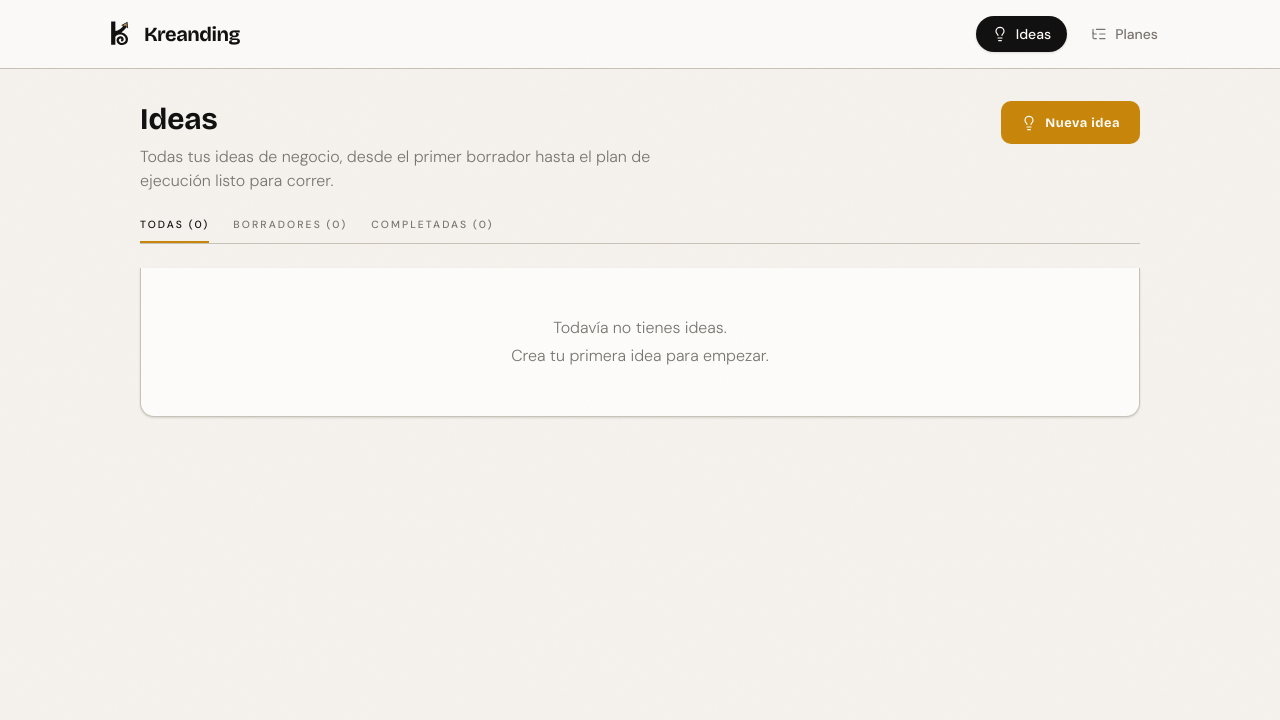
it: Creación de idea › bloquea el envío hasta alcanzar el mínimo de caracteres
Expected: the text "Todavía no tienes ideas." is shown, x1=553 y1=317 x2=727 y2=338
Click the button "Nueva idea" at coordinates (1071, 123), box x1=1001 y1=101 x2=1140 y2=144
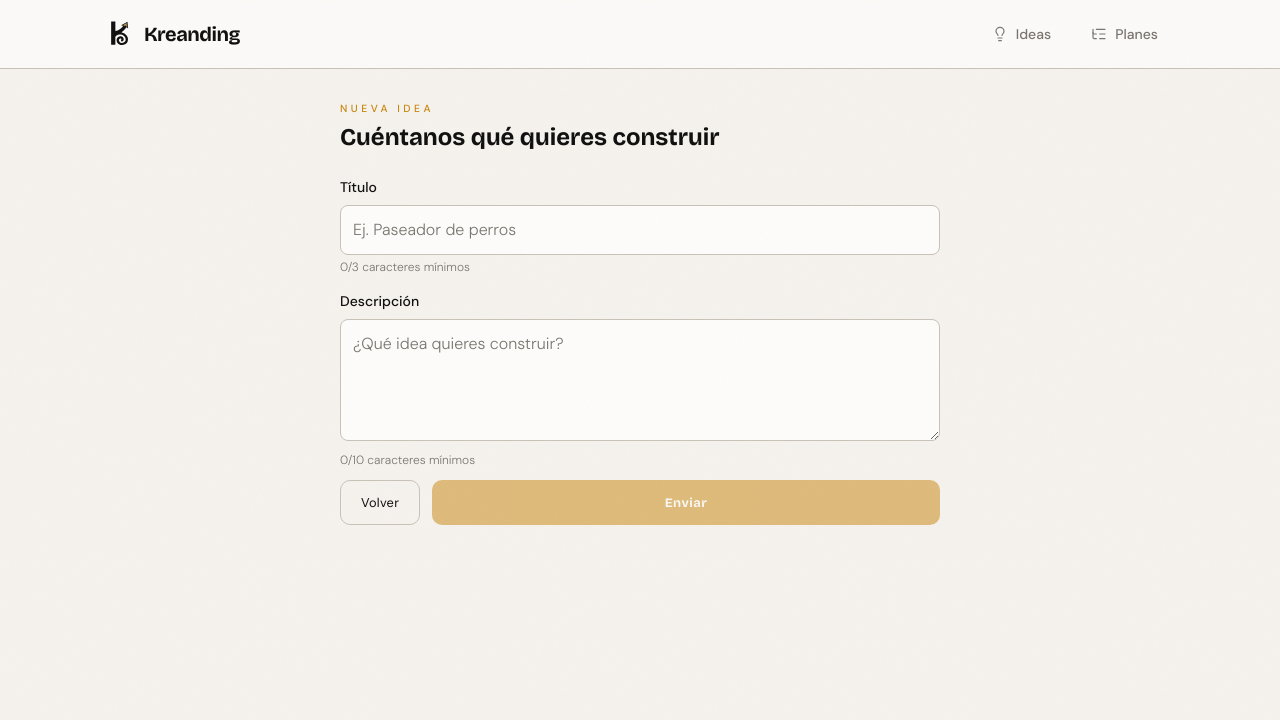
Expected: the field labelled "Título" is shown
Expected: the button "Enviar" is disabled, x1=432 y1=480 x2=940 y2=525
Type "Paseador de perros" into the field labelled "Título" at coordinates (640, 230), box x1=340 y1=205 x2=940 y2=255
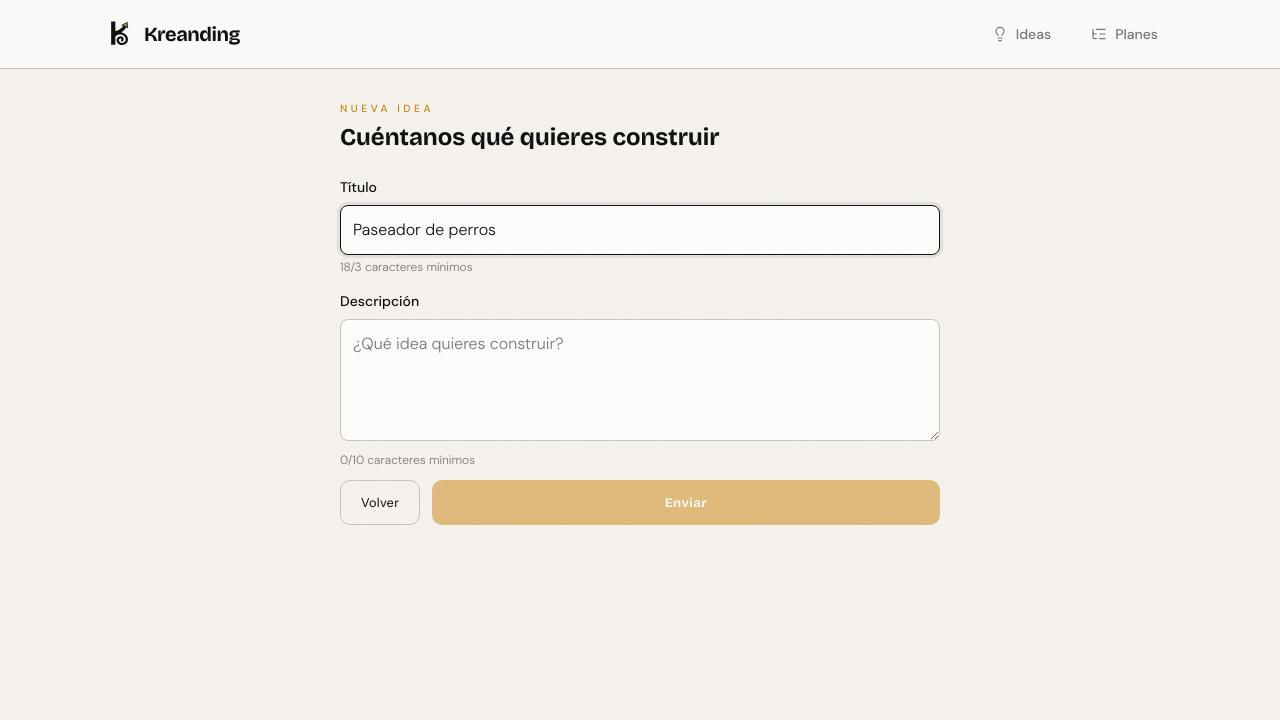
Expected: the button "Enviar" is disabled, x1=432 y1=480 x2=940 y2=525
Type "corta" into the text box labelled "Descripción" at coordinates (640, 380), box x1=340 y1=319 x2=940 y2=441
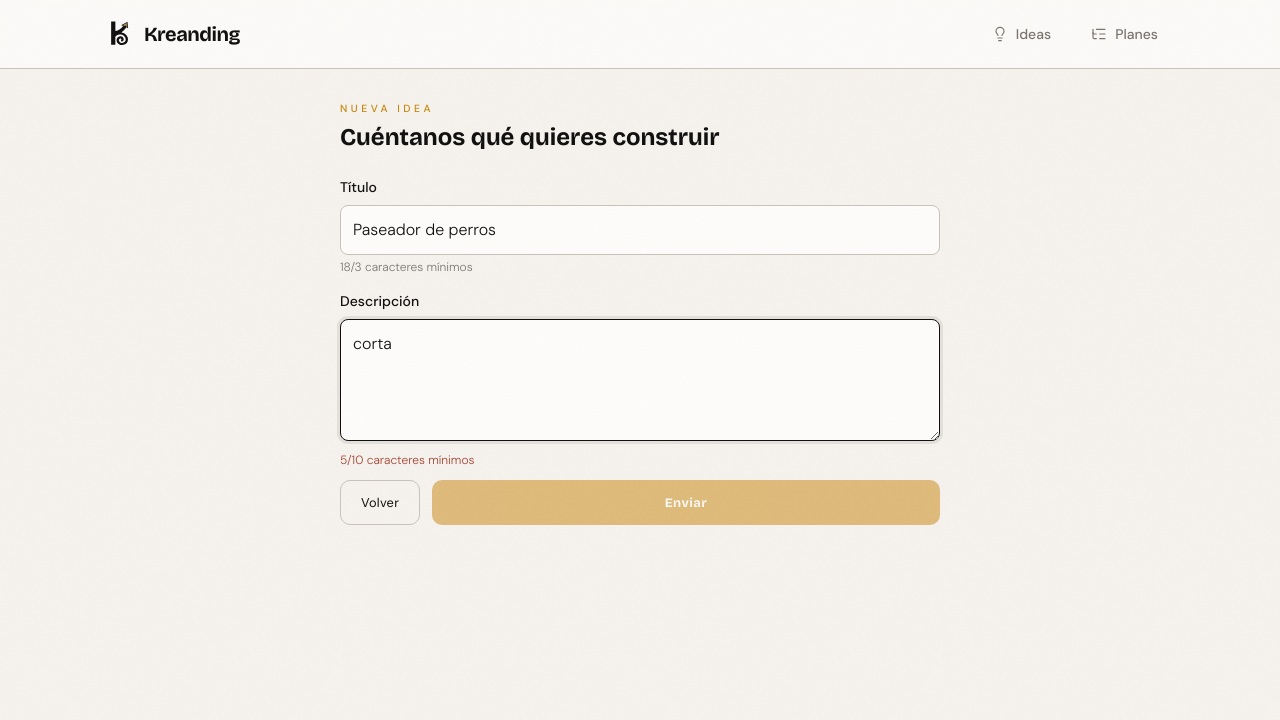
Expected: the button "Enviar" is disabled, x1=432 y1=480 x2=940 y2=525
Type " pero ya suficientemente larga" into the text box labelled "Descripción" at coordinates (640, 380), box x1=340 y1=319 x2=940 y2=441
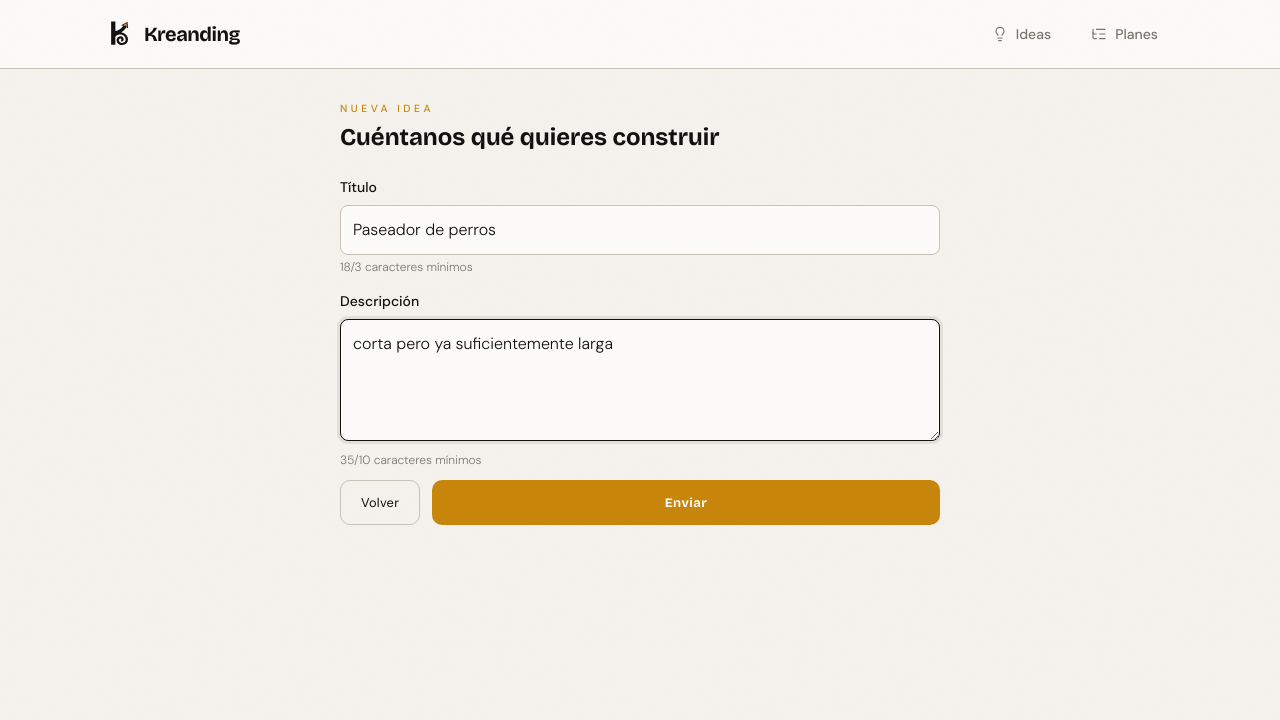
Expected: the button "Enviar" is enabled, x1=432 y1=480 x2=940 y2=525
